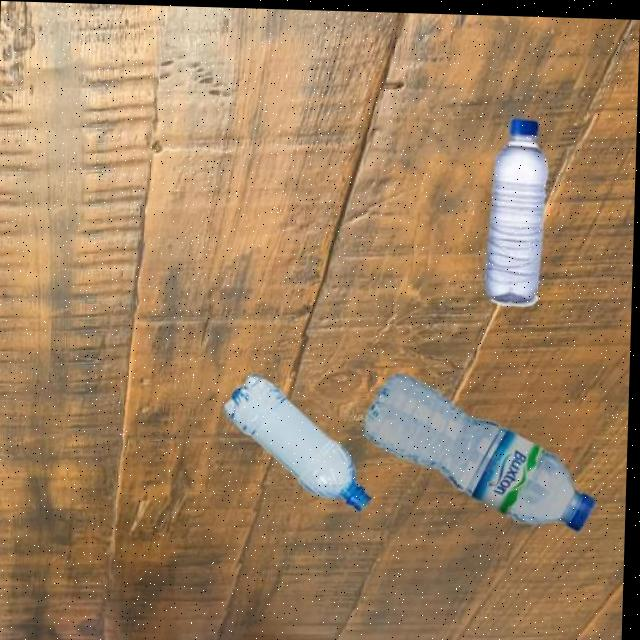bottle: (363, 369, 602, 530), (222, 370, 379, 512), (484, 114, 552, 305)
